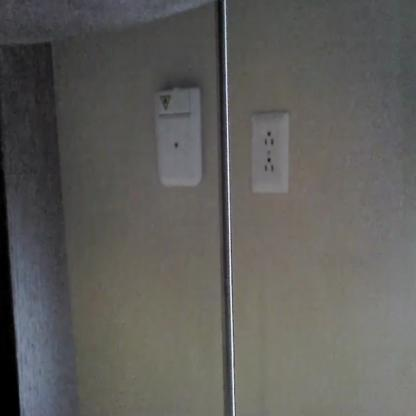OUTLET: (250, 112, 289, 193)
